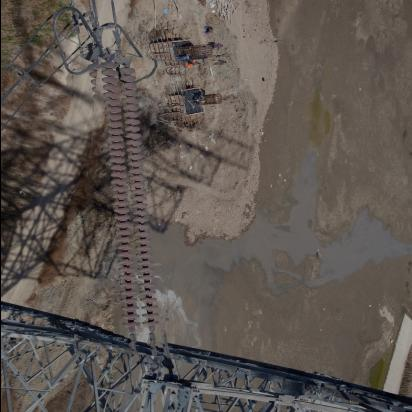insulator: (79, 56, 181, 356)
